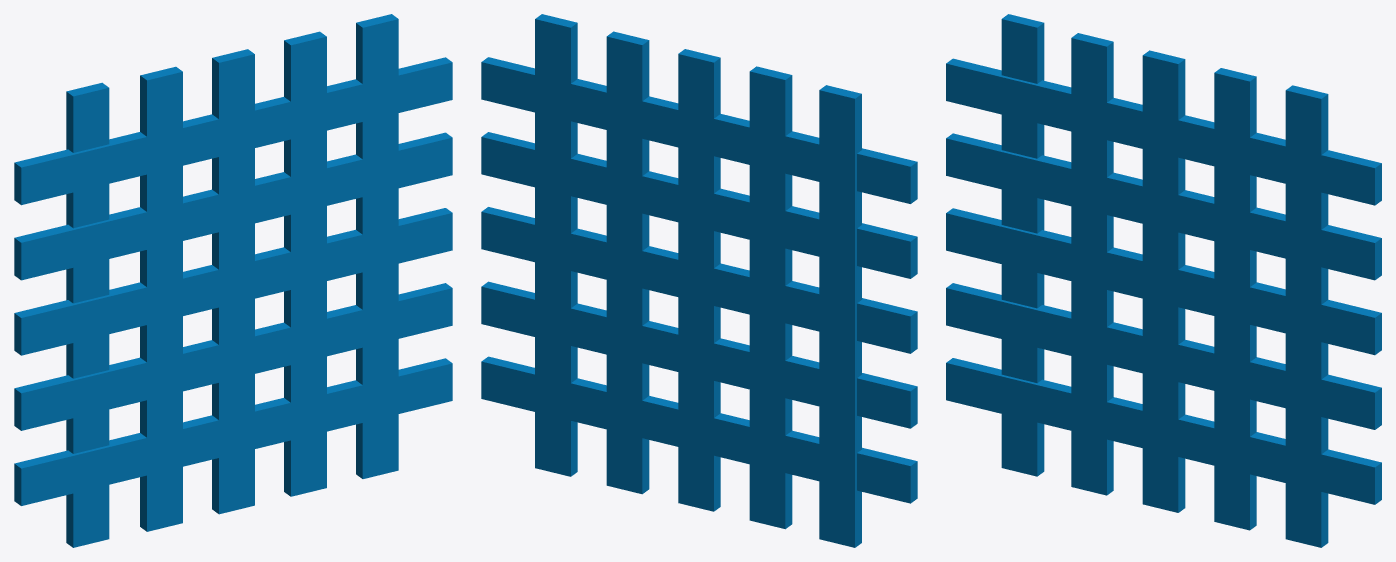
The model's file is Harp.gltf.
3 renders of one model, left to right at view 1: azimuth 30°, elevation 25°; view 2: azimuth 150°, elevation 25°; view 3: azimuth 330°, elevation 25°, orthographic.
Visible parts, largest first — view 1: Box2, Box3, Box1, Box, Box9, Box7, Box8, Box6, Box5, Box4; view 2: Box4, Box7, Box6, Box2, Box3, Box8, Box9, Box5, Box, Box1; view 3: Box, Box5, Box7, Box2, Box8, Box3, Box9, Box6, Box1, Box4.
Part boxes in pixels (x1,y1,x2,y2): Box2: (356, 14, 398, 478); Box3: (140, 66, 182, 531); Box1: (284, 31, 326, 496); Box: (212, 49, 254, 514); Box9: (14, 358, 452, 505); Box7: (14, 57, 452, 205); Box8: (14, 283, 452, 430); Box6: (14, 132, 452, 280); Box5: (14, 208, 452, 355); Box4: (66, 82, 109, 547); Box4: (819, 85, 861, 547); Box7: (481, 57, 917, 203); Box6: (481, 132, 917, 278); Box2: (535, 14, 577, 476); Box3: (749, 66, 792, 529); Box8: (481, 281, 917, 428); Box9: (481, 356, 917, 503); Box5: (481, 207, 917, 353); Box: (678, 49, 720, 511); Box1: (606, 31, 649, 494); Box: (1142, 50, 1185, 512); Box5: (946, 208, 1381, 355); Box7: (946, 58, 1381, 205); Box2: (1285, 85, 1328, 547); Box8: (946, 283, 1381, 429); Box3: (1071, 33, 1113, 495); Box9: (946, 358, 1381, 504); Box6: (946, 133, 1381, 280); Box1: (1214, 68, 1256, 530); Box4: (1001, 14, 1044, 476).
Bounding box in the file's own units: 36 × 36.01 × 1.28.
